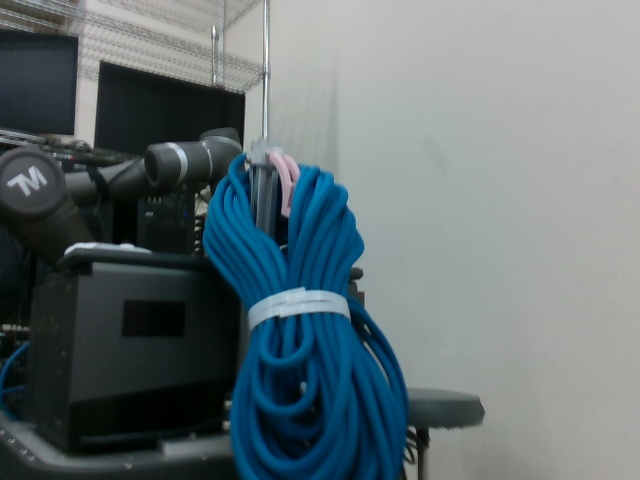rope: (199, 147, 413, 480)
